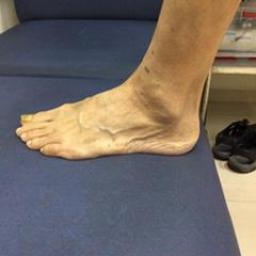Lateral View -Left Foot-: (13, 60, 214, 165)
